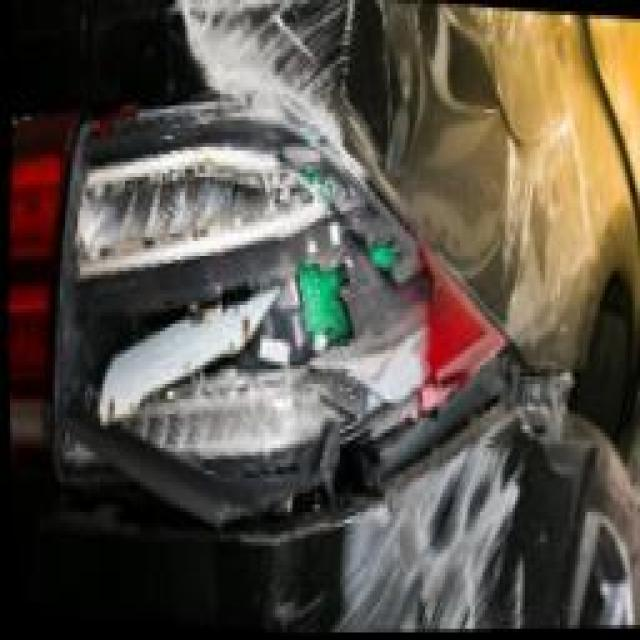Bumper: (9, 407, 602, 635)
Fender: (116, 0, 639, 383)
Light: (66, 117, 505, 505)
